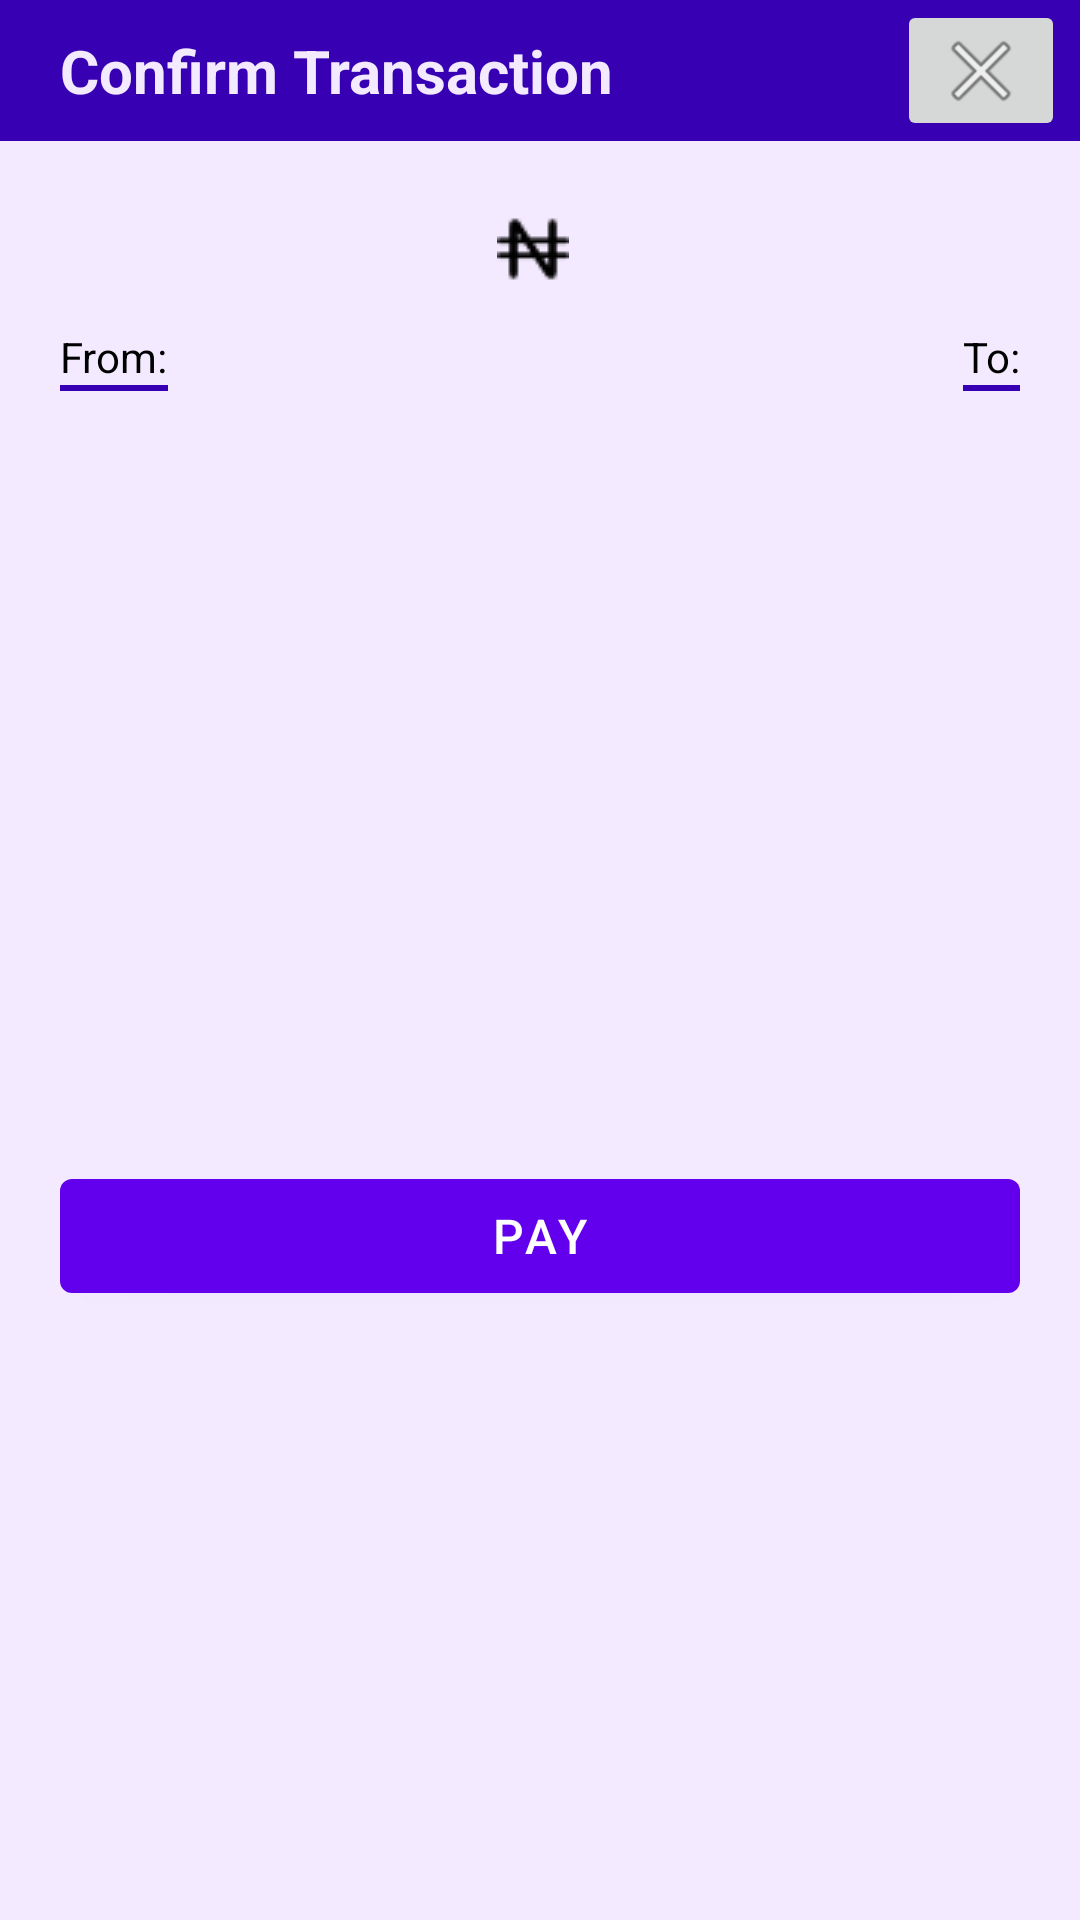

Point at icon controls on the screen. Image size 1080px x 1920px, points as (x,y).
close clear cancel: (981,70)
